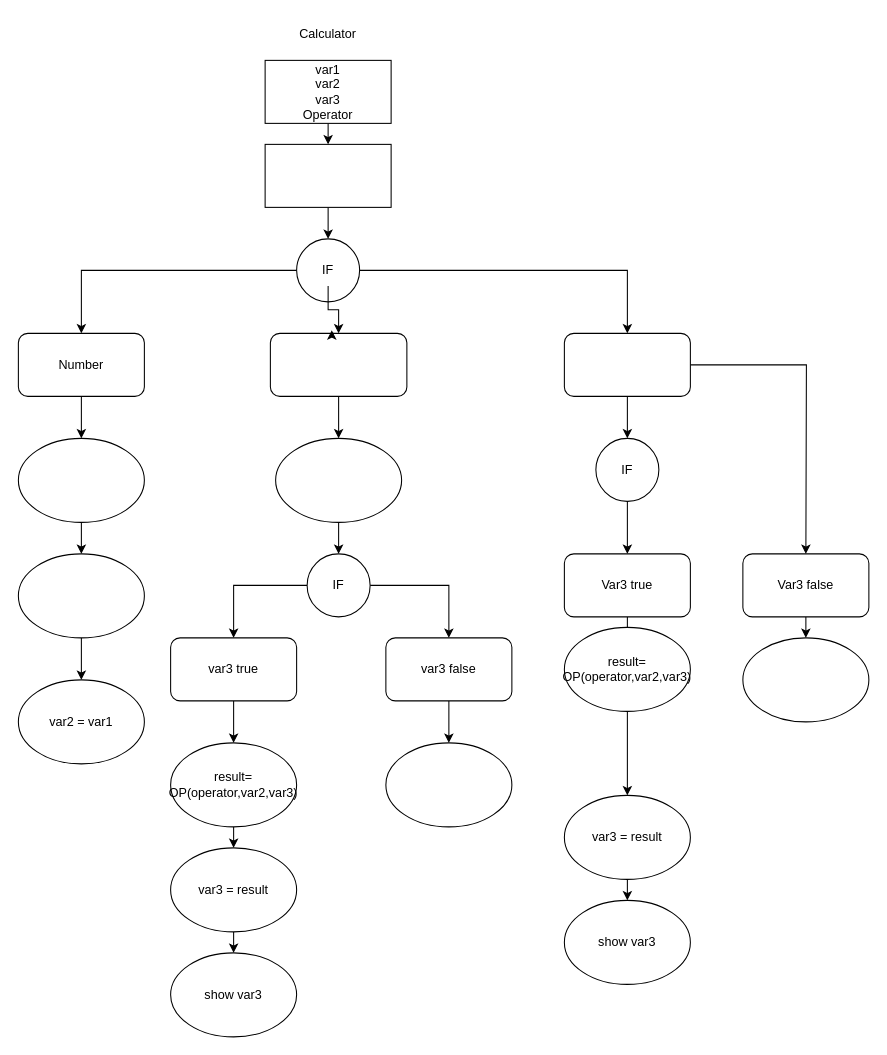
Some shapes in this 887 by 1055 pixel diagram are drawn without their labels. Here are the shapes that lost their labels. From the top down, the centre of each, then its label:
the point at 327,175: Listen to Butttons
the point at 338,364: Operator
the point at 626,364: Equals
the point at 80,479: var1 = var1 + clicked
the point at 338,479: Operator = +-*/
the point at 80,595: var1 to float
the point at 805,679: break
the point at 448,784: Var3 =Var2
